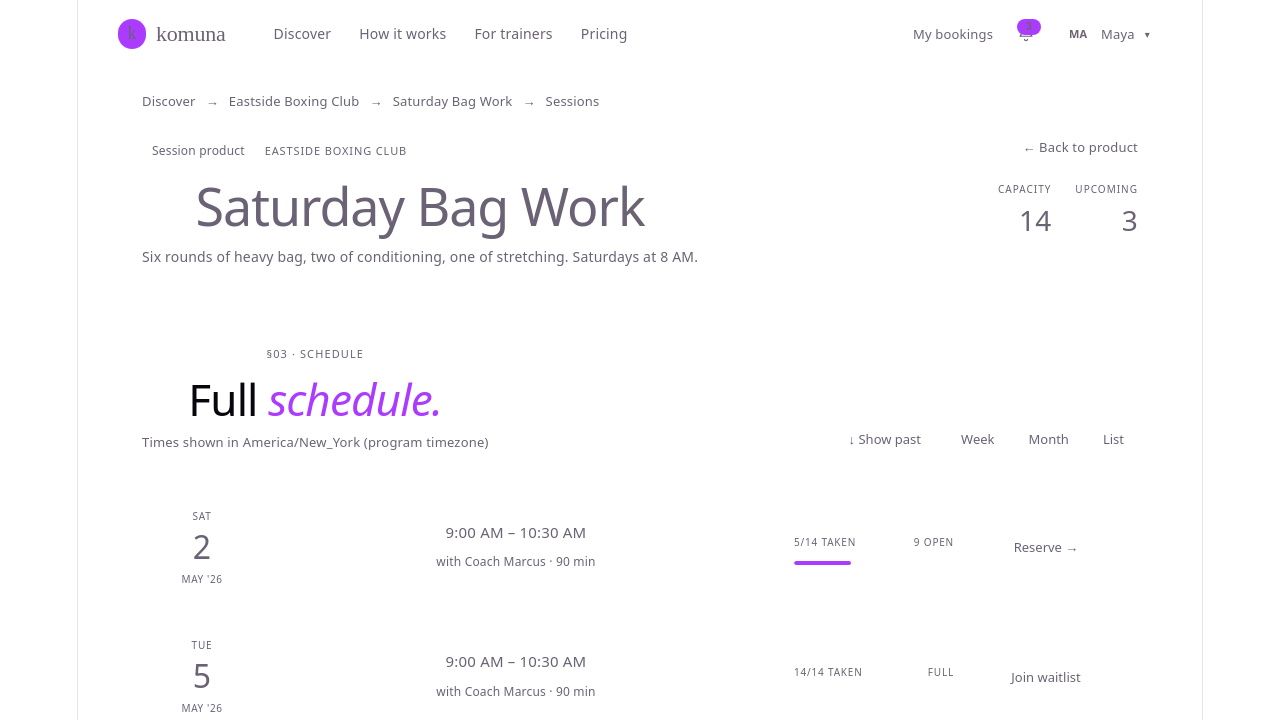
Test case: SessionsPage › reveals past rows after toggling "Show past"
Click the button "↓ Show past": coordinates (885, 439) [835,423,935,455]
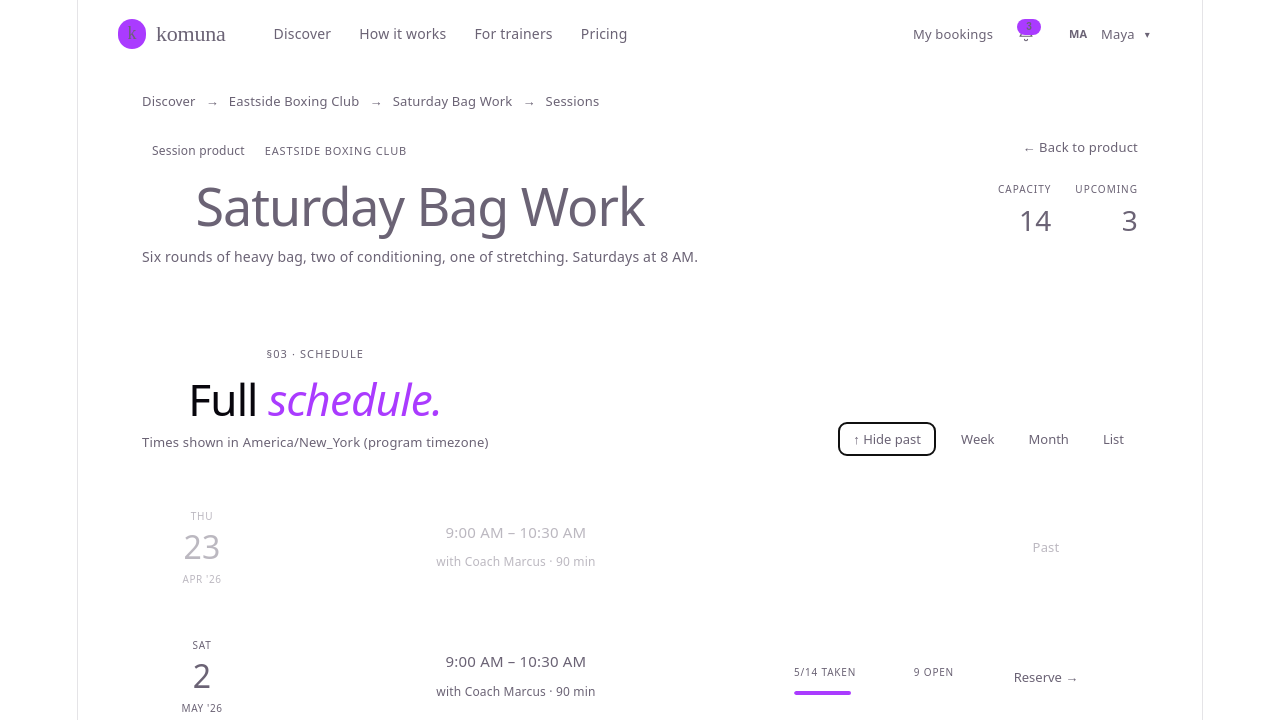
Check: the number of elements with test id "session-row" is 4
